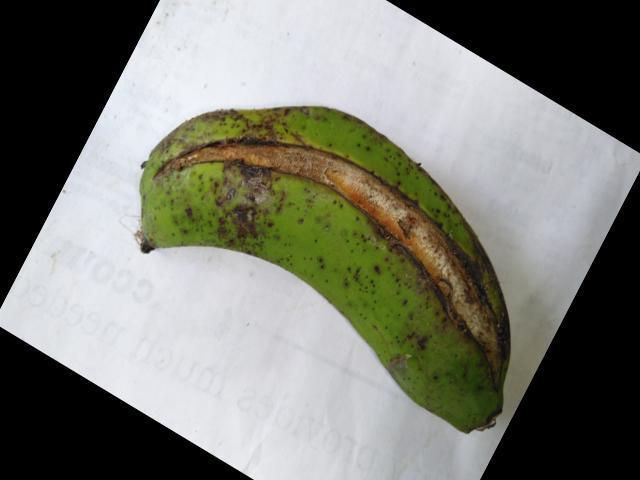rotten: (143, 124, 513, 392)
